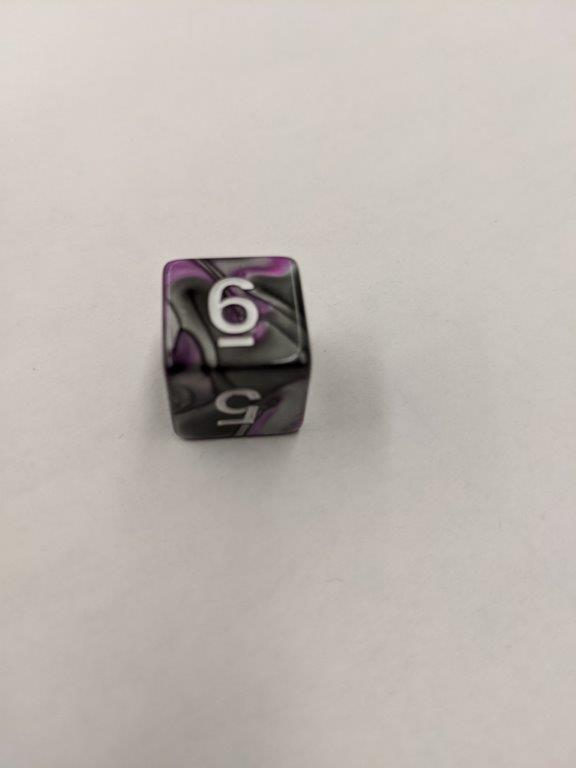d6-6: (163, 253, 313, 442)
